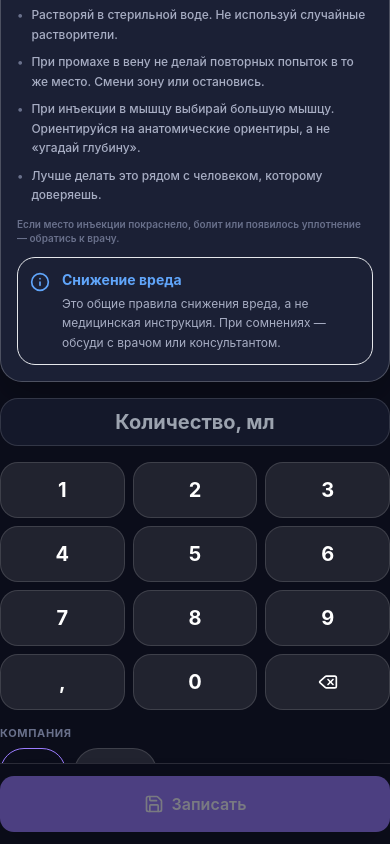
Test: QuickRecordScreen one-tap save › persists immediately on Записать without a review step
Type "1" into the field labelled "Количество".
click(195, 422); type("1")  # box left=0, top=398, right=389, bottom=446
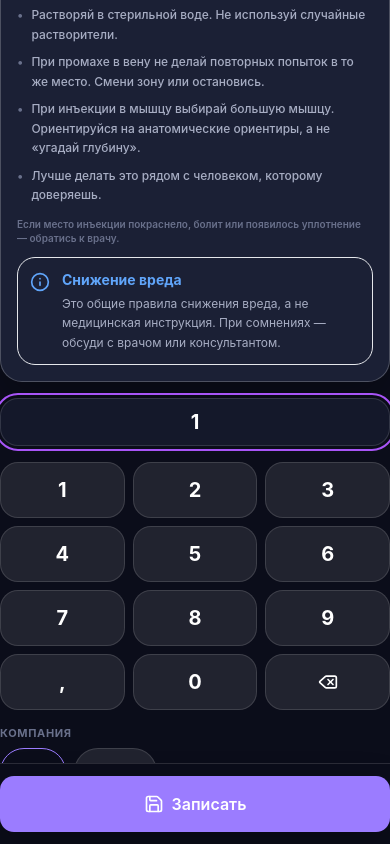
Click the button "Записать".
click(195, 804)  # box left=0, top=776, right=389, bottom=832
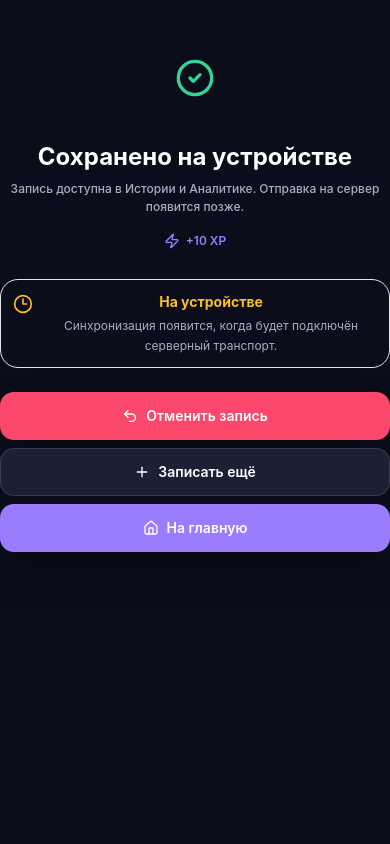
Expected: the heading "Сохранено на устройстве" is shown, left=38, top=142, right=352, bottom=171
